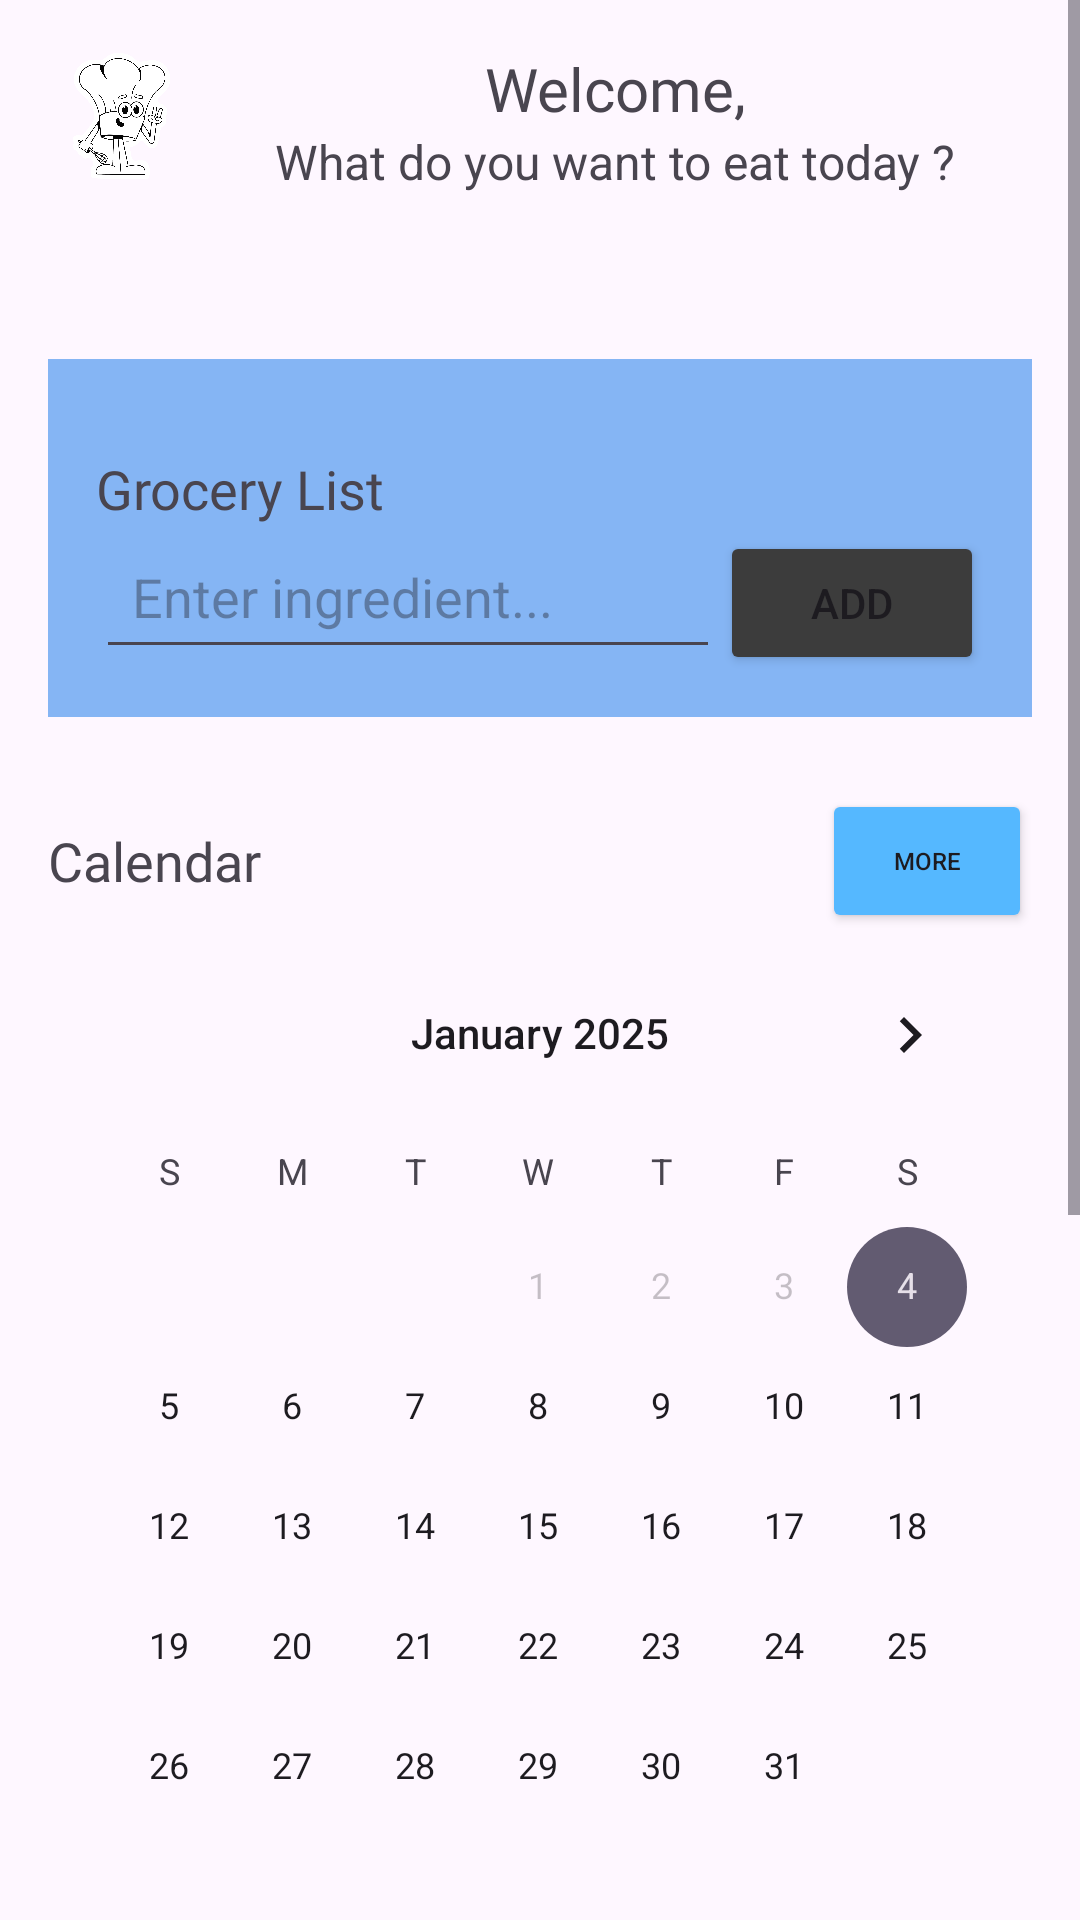

Icon click points for this 1080px x 1920px phone screenshot, format [x,y]:
cuisto: [121,116]
